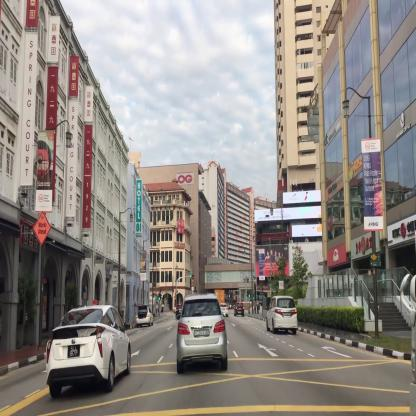green_traffic_light: (248, 290, 250, 297), (190, 274, 193, 278), (158, 294, 160, 300)
